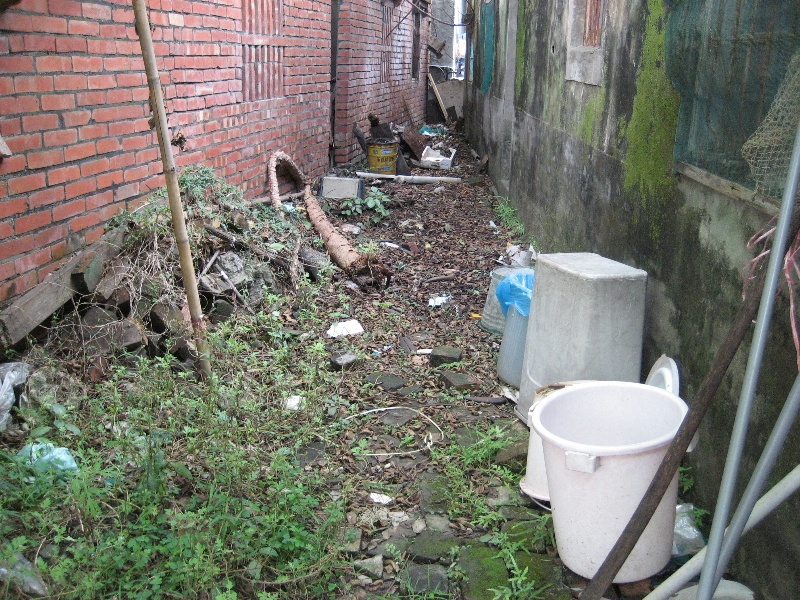bucket: (528, 378, 700, 586), (514, 252, 648, 428), (363, 132, 398, 178)
styrofoam: (417, 141, 459, 172)
